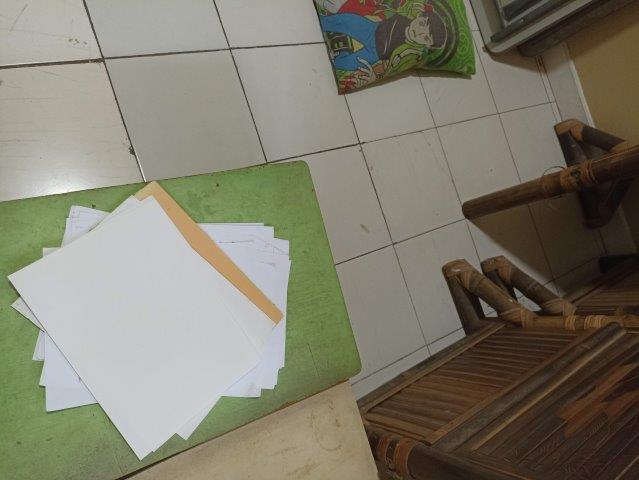kertas: (7, 180, 291, 458)
